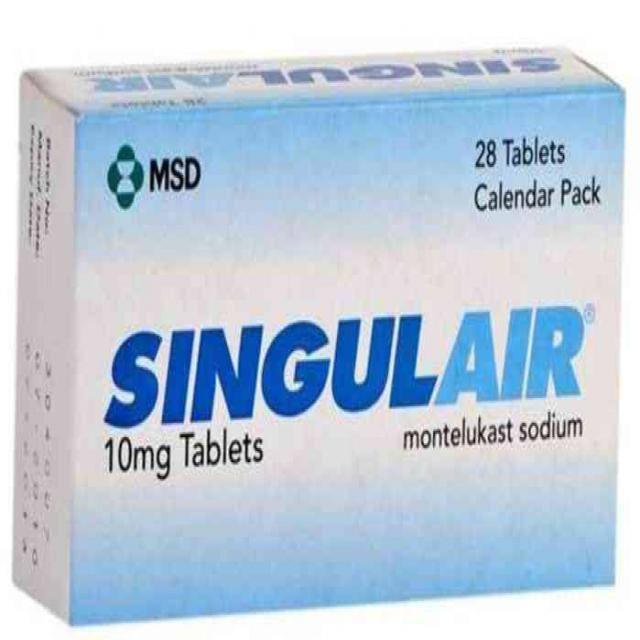drug-name: (103, 303, 588, 431)
